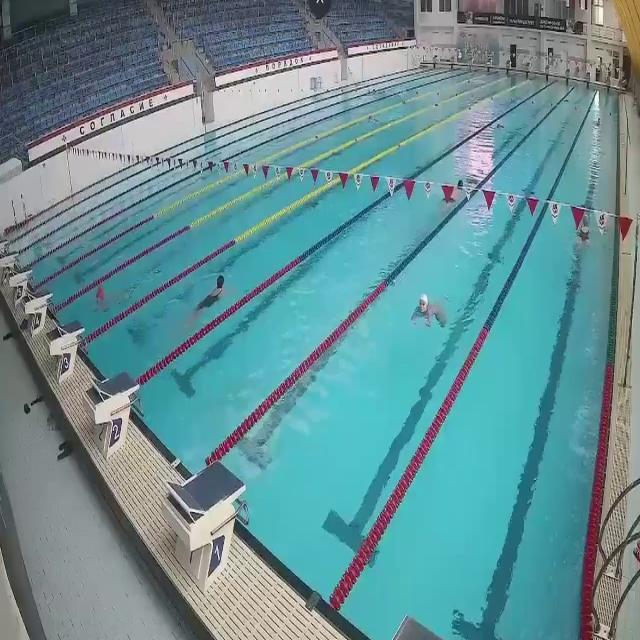Swimming: (187, 269, 233, 332), (402, 290, 454, 330), (434, 170, 476, 216), (94, 288, 121, 309)
